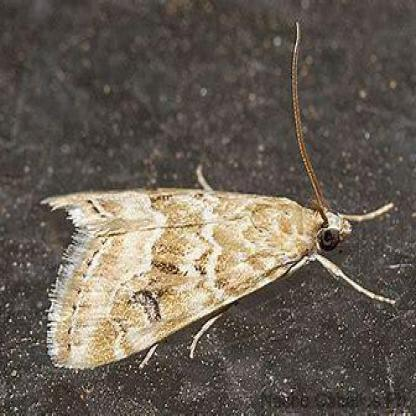Hellula undalis: (37, 10, 403, 377)
